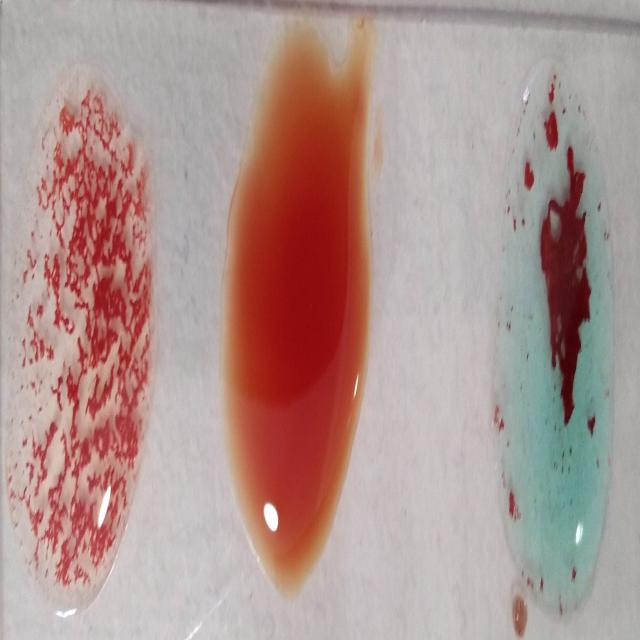A: (498, 72, 616, 625)
D: (7, 91, 156, 610)
